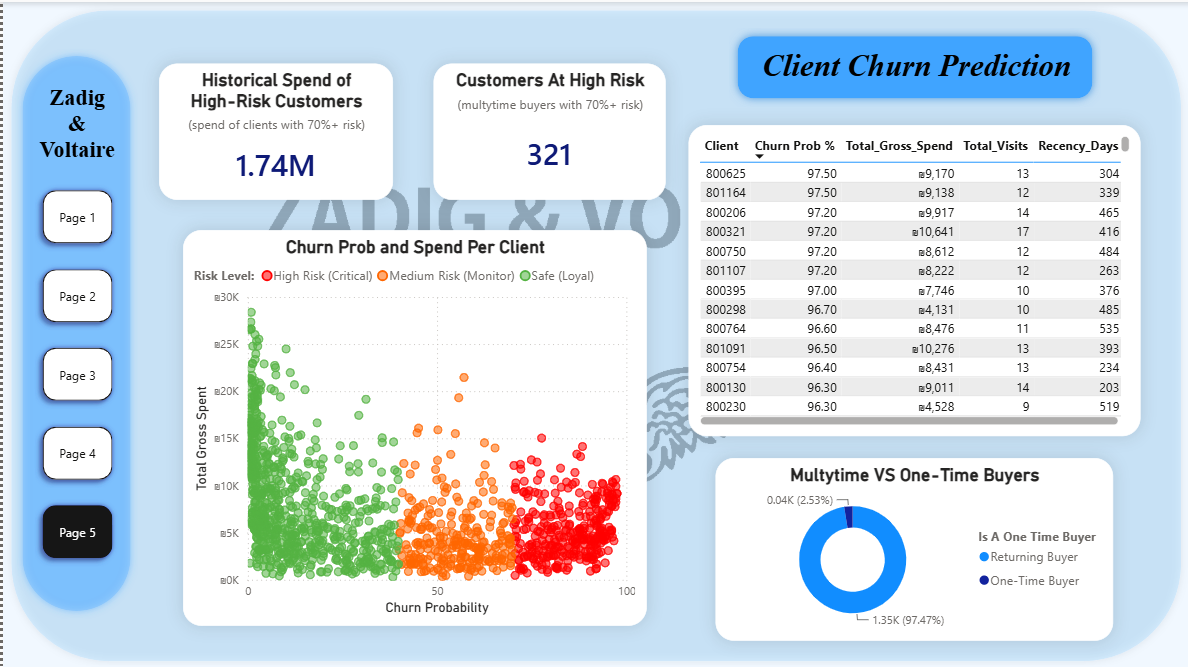

This screenshot's page, from the dashboard's own definition file:
{"tool":"powerbi","page":{"name":"Page 5","canvas":[1280,720],"ordinal":4},"visuals":[{"type":"image","box":[0,0,1280.8,720.6],"z":0},{"type":"shape","box":[0,0,1280.8,720.6],"z":1000},{"type":"shape","box":[784.1,27,401.6,85.8],"z":2000},{"type":"shape","title":"bffdbdbfdb","box":[806.8,27,359.5,81],"z":3000},{"type":"shape","title":"sd","box":[13.1,50.9,132.8,615.3],"z":4000},{"type":"pageNavigator","box":[33.5,195,93.2,419.2],"z":5000},{"type":"shape","box":[38.9,88.7,82.6,85.8],"z":6000},{"type":"cardVisual","title":"Historical Spend of High-Risk Customers","fields":{"Data":["_Measures.Historical Spend of High-Risk Customers"]},"box":[168.4,66.4,252.6,147.3],"z":7000},{"type":"cardVisual","title":"Customers At High Risk","fields":{"Data":["_Measures.High-Risk Returning Customers"]},"box":[464.7,66.4,251,147.3],"z":8000},{"type":"donutChart","title":"Multytime VS One-Time Buyers","fields":{"Category":["dim_customers.Purchase Frequency Group"],"Y":["CountNonNull(dim_customers.Client)"]},"box":[769.1,492.2,429.1,197.5],"z":9000},{"type":"scatterChart","title":"Churn Prob and Spend Per Client","fields":{"Category":["BI_Customer_Retention_Returning_Tuned_v2.Client"],"Series":["BI_Customer_Retention_Returning_Tuned_v2.Retention_Risk_Tier"],"X":["BI_Customer_Retention_Returning_Tuned_v2.Churn_Probability_%"],"Y":["BI_Customer_Retention_Returning_Tuned_v2.Total_Gross_Spend"]},"box":[194.4,246.9,500.7,427.6],"z":10000},{"type":"tableEx","fields":{"Values":["BI_Customer_Retention_Returning_Tuned_v2.Client","BI_Customer_Retention_Returning_Tuned_v2.Churn_Probability_%","BI_Customer_Retention_Returning_Tuned_v2.Total_Gross_Spend","BI_Customer_Retention_Returning_Tuned_v2.Total_Visits","BI_Customer_Retention_Returning_Tuned_v2.Recency_Days"]},"box":[740,132,488,336],"z":11000}]}

Visuals, with their boxes in screenshot pixels (x1, y1, x2, y2), scaled from the page's 1280x720 canvas onto the 1188x667 screenshot:
image: bbox(0, 0, 1187, 666)
shape: bbox(0, 0, 1187, 666)
shape: bbox(728, 25, 1100, 104)
"bffdbdbfdb" shape: bbox(749, 25, 1082, 100)
"sd" shape: bbox(12, 47, 135, 617)
pageNavigator: bbox(31, 181, 118, 569)
shape: bbox(36, 82, 113, 162)
"Historical Spend of High-Risk Customers" cardVisual: bbox(156, 62, 391, 198)
"Customers At High Risk" cardVisual: bbox(431, 62, 664, 198)
"Multytime VS One-Time Buyers" donutChart: bbox(714, 456, 1112, 639)
"Churn Prob and Spend Per Client" scatterChart: bbox(180, 229, 645, 625)
tableEx - BI_Customer_Retention_Returning_Tuned_v2.Client x BI_Customer_Retention_Returning_Tuned_v2.Churn_Probability_%: bbox(687, 122, 1140, 434)
